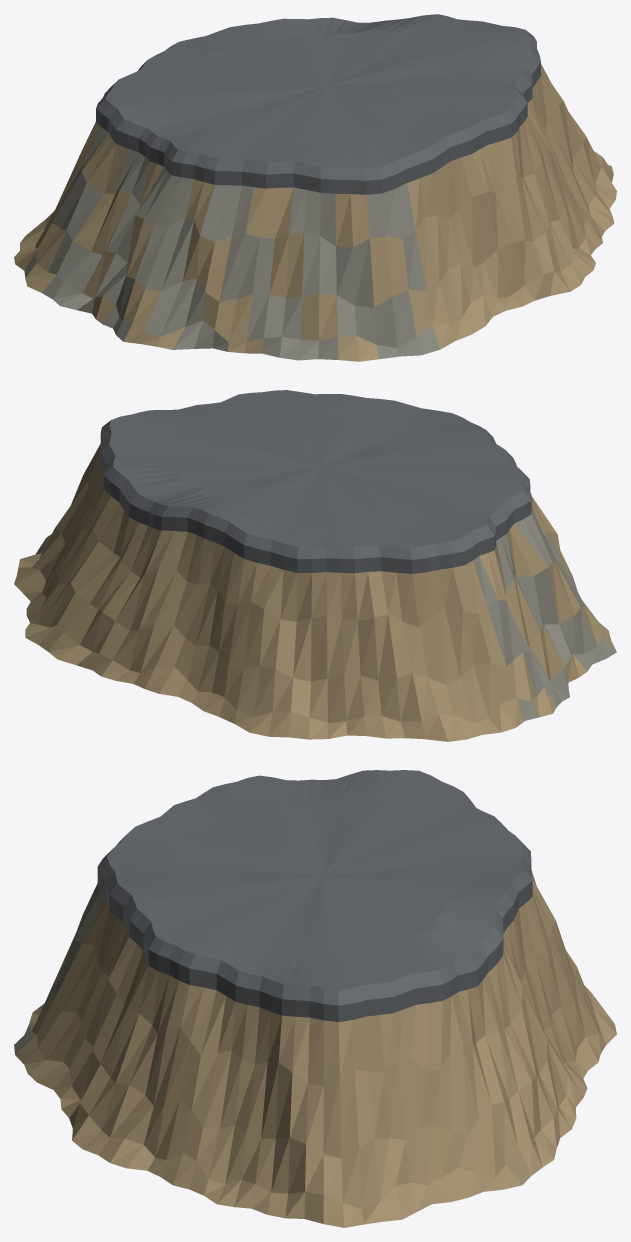
The picture shows the model from 3 angles, top to bottom: view 1: azimuth 30°, elevation 25°; view 2: azimuth 150°, elevation 25°; view 3: azimuth 270°, elevation 25°; orthographic projection. The views are drawn at different scales.
Parts seen in each view (by area): view 1: flat_top_subglacial_tuya_coherent_lava_cap_tuff_breccia_pill; view 2: flat_top_subglacial_tuya_coherent_lava_cap_tuff_breccia_pill; view 3: flat_top_subglacial_tuya_coherent_lava_cap_tuff_breccia_pill.
Boxes of the visible parts, x1=… form: flat_top_subglacial_tuya_coherent_lava_cap_tuff_breccia_pill: x1=14, y1=14, x2=616, y2=361; flat_top_subglacial_tuya_coherent_lava_cap_tuff_breccia_pill: x1=14, y1=390, x2=616, y2=741; flat_top_subglacial_tuya_coherent_lava_cap_tuff_breccia_pill: x1=14, y1=770, x2=616, y2=1227.
Size of the model in its own units: 1253 by 355 by 998.
